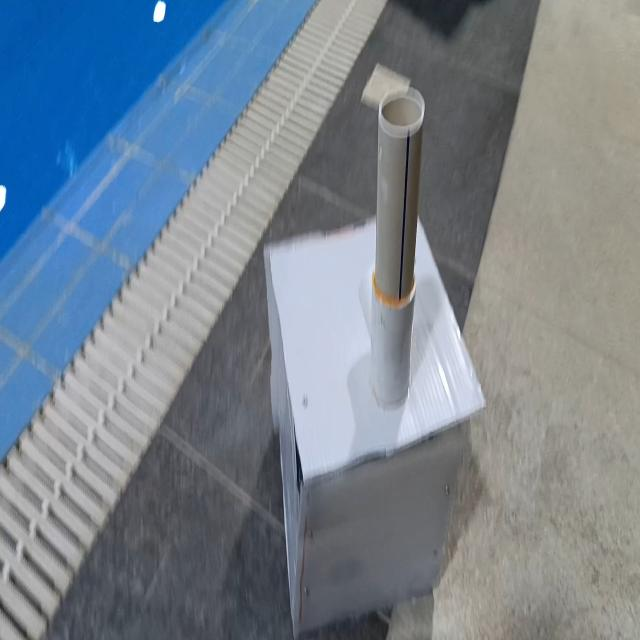Cube: (263, 209, 487, 636)
